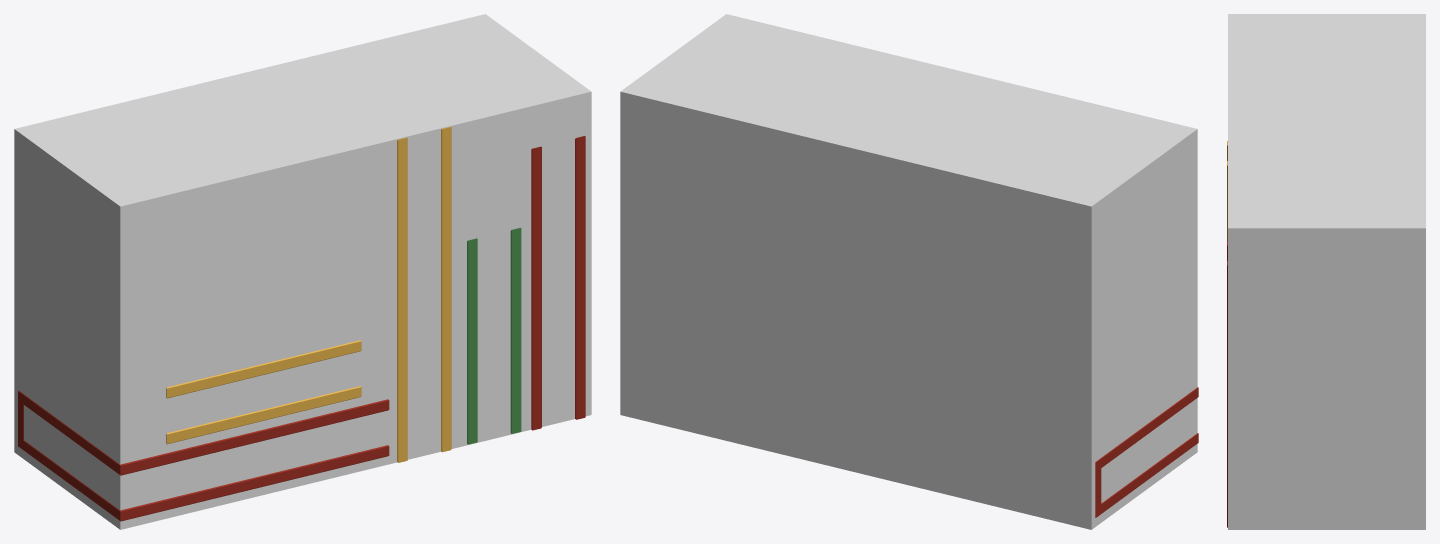
File: books-b.glb
The picture shows the model from 3 angles, left to right: view 1: azimuth 30°, elevation 25°; view 2: azimuth 150°, elevation 25°; view 3: azimuth 270°, elevation 25°; orthographic projection. The views are drawn at different scales.
Visible parts, largest first — view 1: Books B_col, Books B; view 2: Books B_col, Books B; view 3: Books B_col, Books B.
Part boxes in pixels (x1,y1,x2,y2): Books B_col: (14, 14, 591, 529); Books B: (18, 126, 585, 521); Books B_col: (620, 14, 1197, 529); Books B: (1095, 387, 1198, 517); Books B_col: (1228, 14, 1425, 529); Books B: (1227, 141, 1227, 527).
Size of the model in its own units: 2.26 by 1.49 by 0.8857.
